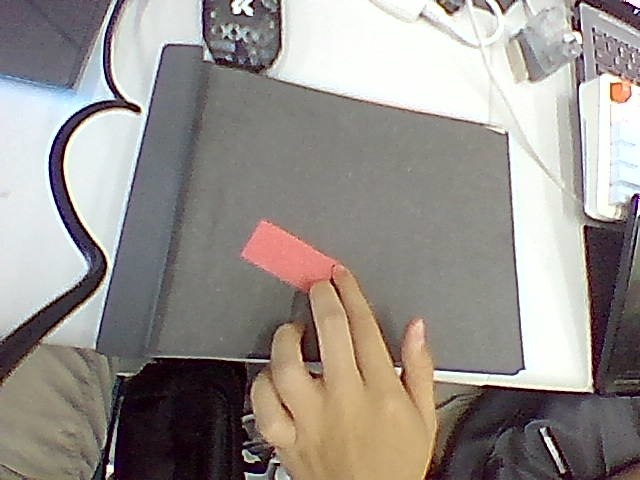card: (242, 220, 338, 292)
